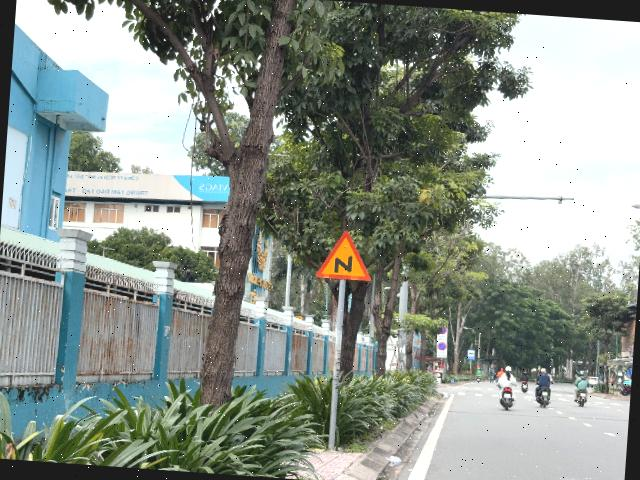nhieu-cho-ngoat-nguy-hiem-lien-tiep: (316, 228, 374, 281)
